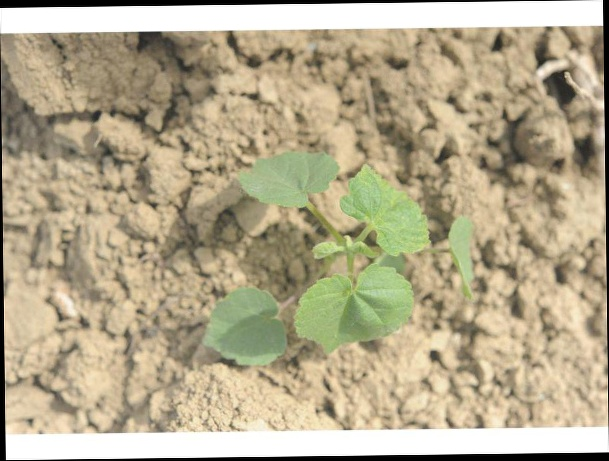velvet: (200, 148, 474, 367)
